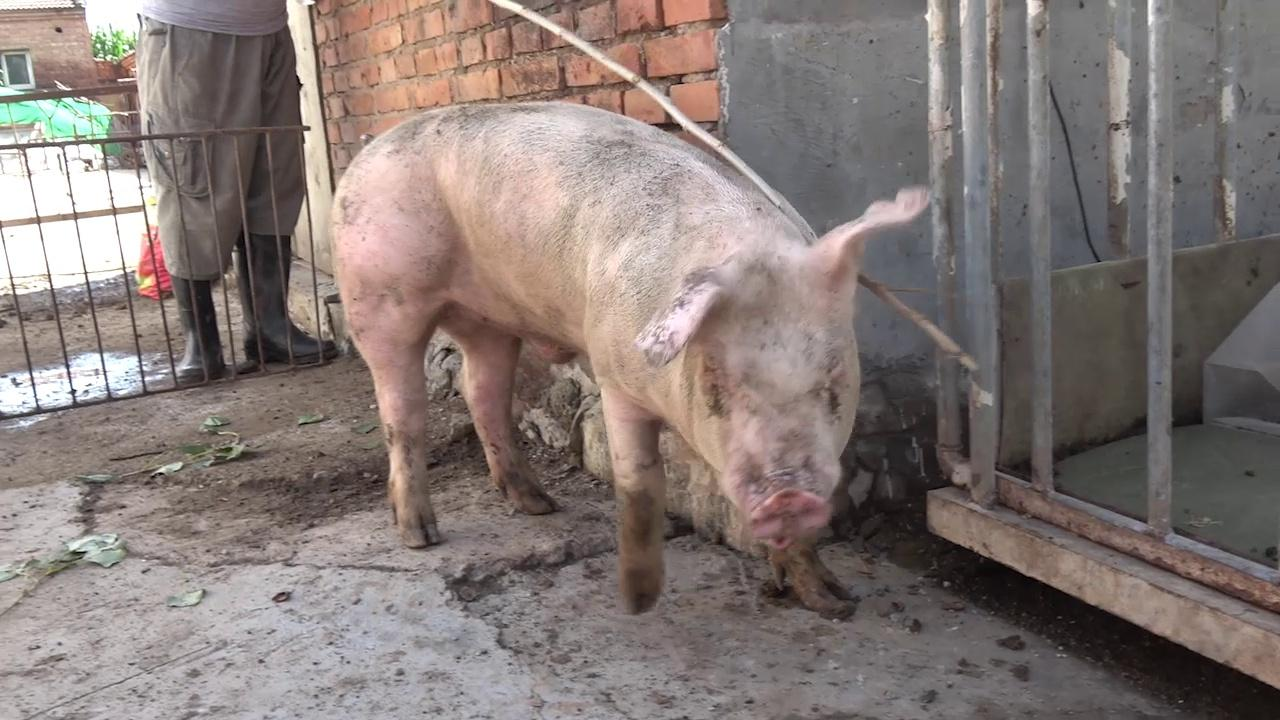Face: (629, 185, 945, 561)
